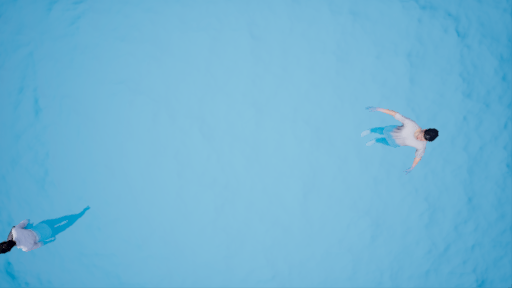person: (351, 100, 442, 168), (1, 207, 79, 259)
